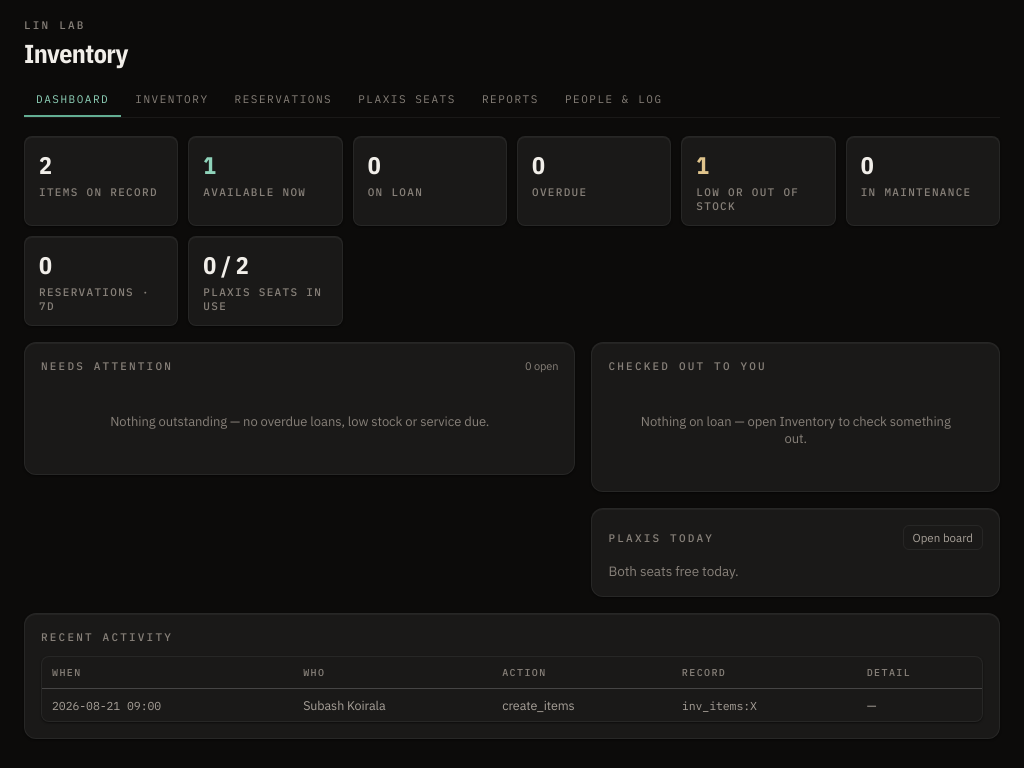
export button labels name their content › all five Reports exports
What coordinates should you click on to do the following:
click the tab "Reports"
I would click on:
 (510, 100)
Its box is [470,84,551,117].
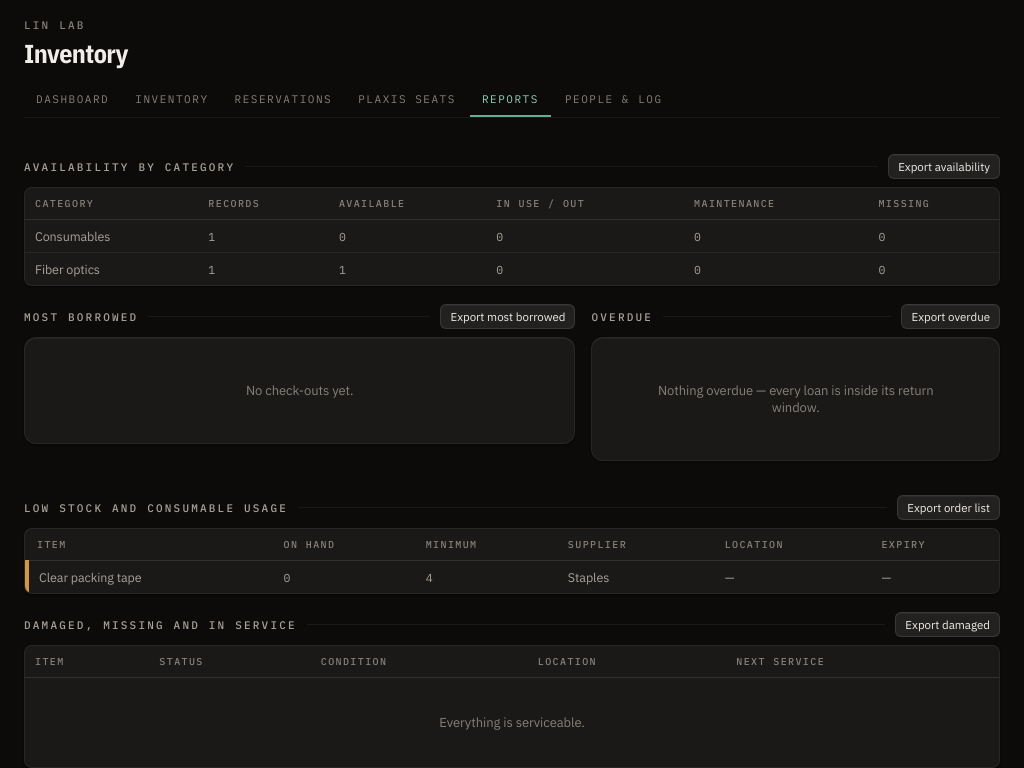
Check: the button "Export availability" is shown, box [888,154,1000,179]
Check: the button "Export most borrowed" is shown, box [440,304,575,329]
Check: the button "Export overdue" is shown, box [901,304,1000,329]
